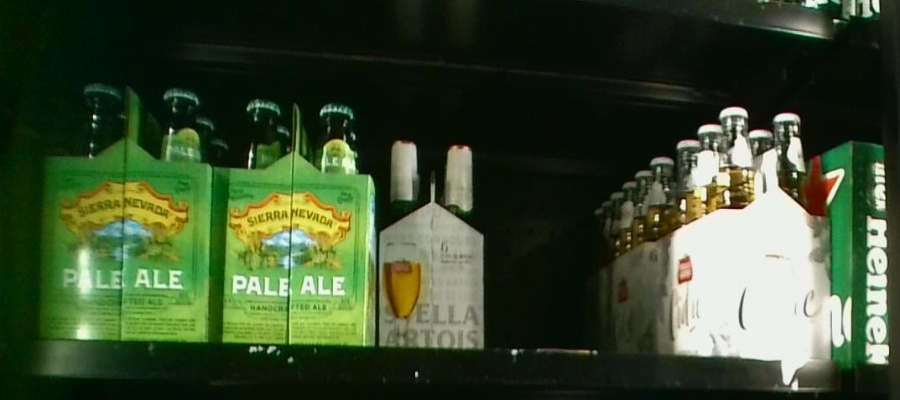bottle: (42, 81, 211, 343), (212, 92, 377, 346), (705, 102, 827, 367), (378, 129, 485, 351)
